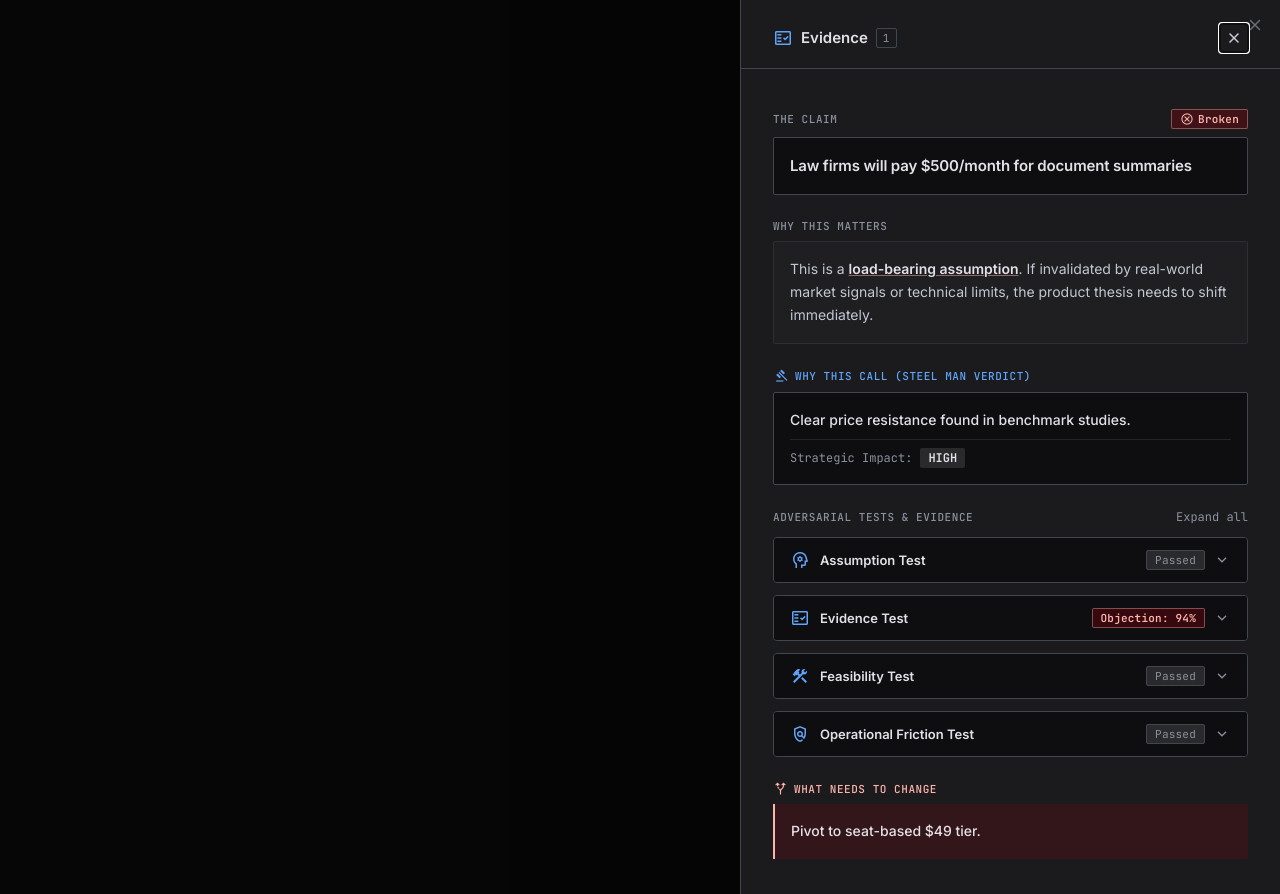
EvidenceDrawer › renders SerpApi badge for evidence items when evidence window is opened
The image size is (1280, 894).
// Open Evidence Test window
Step 1. Click the button "Evidence Test Objection: 94%" → x=864, y=618, box [774,596,1247,640]
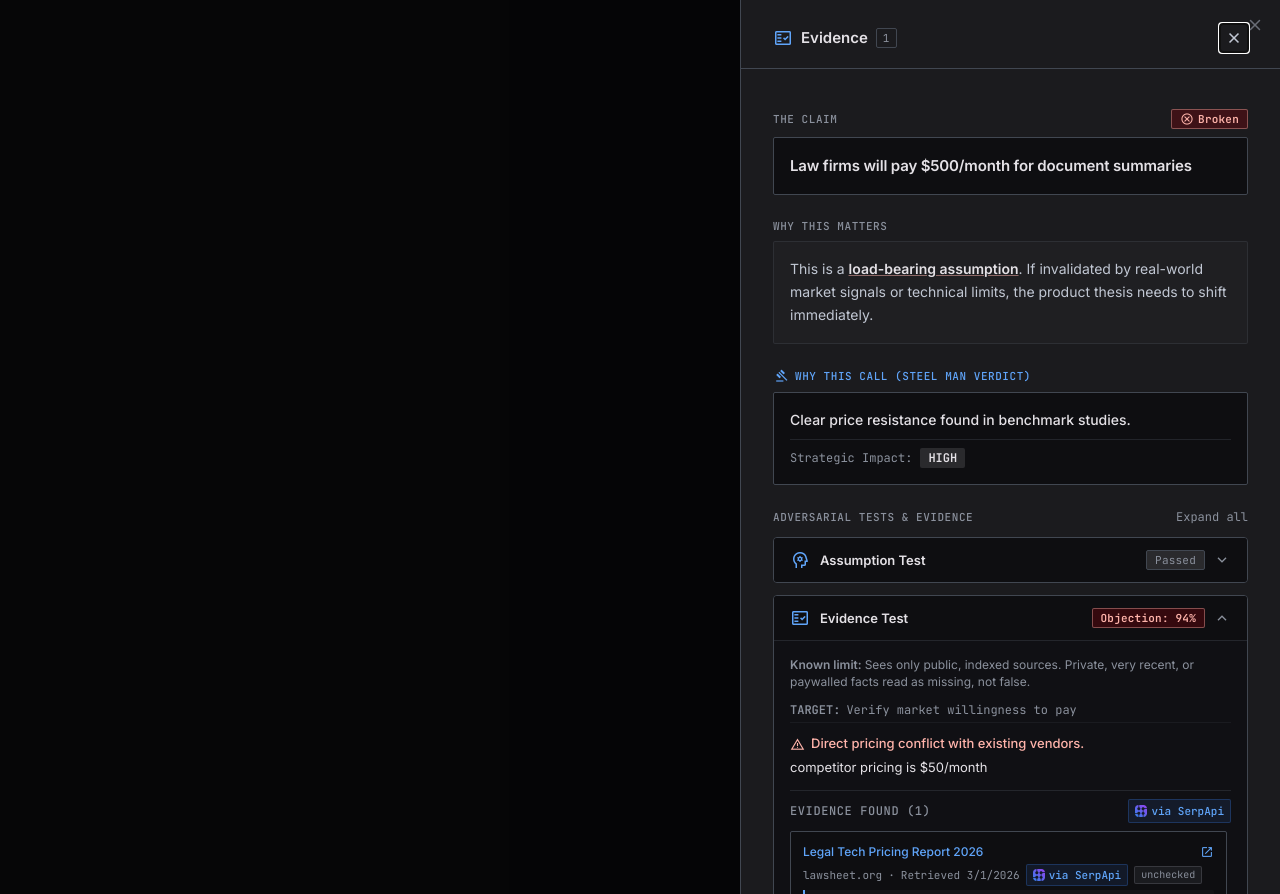
expect the link titled "Verified live web result via SerpApi" in the row of "Evidence Found (" is shown: met, box [1128,799,1231,823]
